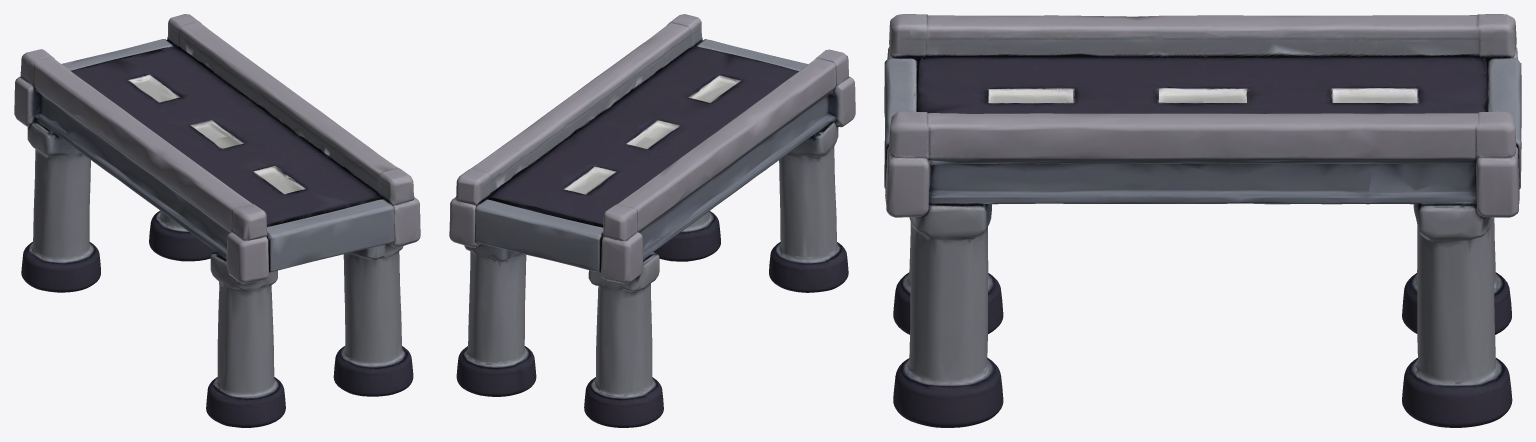
The model's file is overpass.glb.
The picture shows the model from 3 angles, left to right: view 1: azimuth 30°, elevation 25°; view 2: azimuth 150°, elevation 25°; view 3: azimuth 270°, elevation 25°; orthographic projection. The views are drawn at different scales.
Parts seen in each view (by area): view 1: tripo_node_1f0814a6-be4d-4618-a819-feb7f98be067; view 2: tripo_node_1f0814a6-be4d-4618-a819-feb7f98be067; view 3: tripo_node_1f0814a6-be4d-4618-a819-feb7f98be067.
Boxes of the visible parts, x1=… form: tripo_node_1f0814a6-be4d-4618-a819-feb7f98be067: x1=14, y1=14, x2=420, y2=427; tripo_node_1f0814a6-be4d-4618-a819-feb7f98be067: x1=449, y1=14, x2=855, y2=427; tripo_node_1f0814a6-be4d-4618-a819-feb7f98be067: x1=884, y1=14, x2=1521, y2=427.
Size of the model in its own units: 0.4805 by 0.5036 by 0.9799.
1 material, 1 textured.
